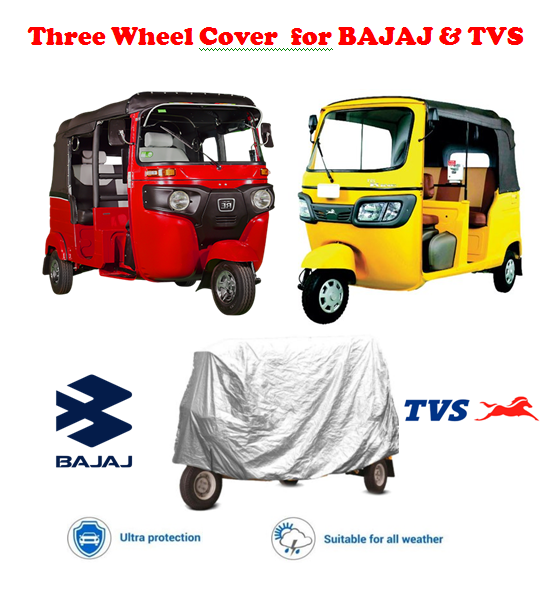threewheel: (296, 95, 524, 324), (43, 92, 276, 316)
